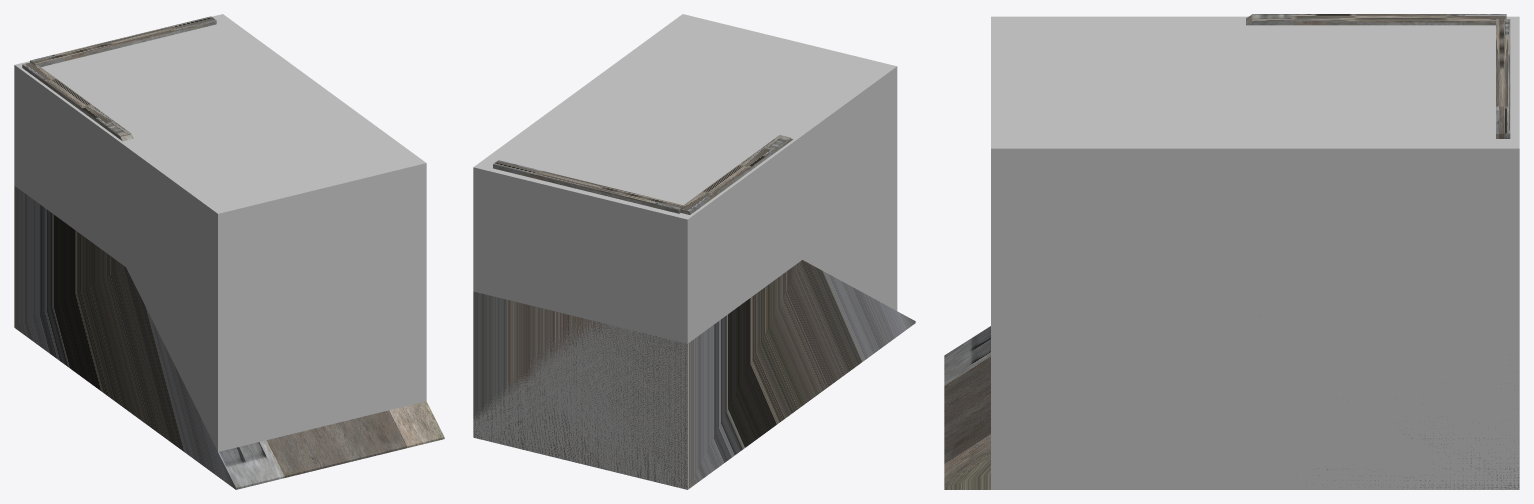
The model's file is concrete_stairs_left.DAE.
The picture shows the model from 3 angles, left to right: view 1: azimuth 30°, elevation 25°; view 2: azimuth 150°, elevation 25°; view 3: azimuth 270°, elevation 25°; orthographic projection. The views are drawn at different scales.
Visible parts, largest first — view 1: bounds, col-01, col-04, col-03; view 2: bounds, col-01, concrete_stairs_left, col-04, col-03; view 3: bounds, col-01, col-03, col-04.
Part boxes in pixels (bbox=[...]): bounds: bbox=[14, 14, 426, 451]; col-01: bbox=[14, 186, 444, 489]; col-04: bbox=[30, 16, 216, 66]; col-03: bbox=[22, 62, 131, 139]; bounds: bbox=[473, 14, 897, 489]; col-01: bbox=[473, 260, 915, 489]; concrete_stairs_left: bbox=[473, 320, 687, 489]; col-04: bbox=[493, 160, 684, 213]; col-03: bbox=[680, 135, 790, 214]; bounds: bbox=[991, 16, 1519, 489]; col-01: bbox=[944, 326, 990, 489]; col-03: bbox=[1251, 14, 1506, 25]; col-04: bbox=[1496, 19, 1510, 138].
Size of the model in its own units: 203 by 374 by 249.
Materials: 2 (1 with a texture image).
